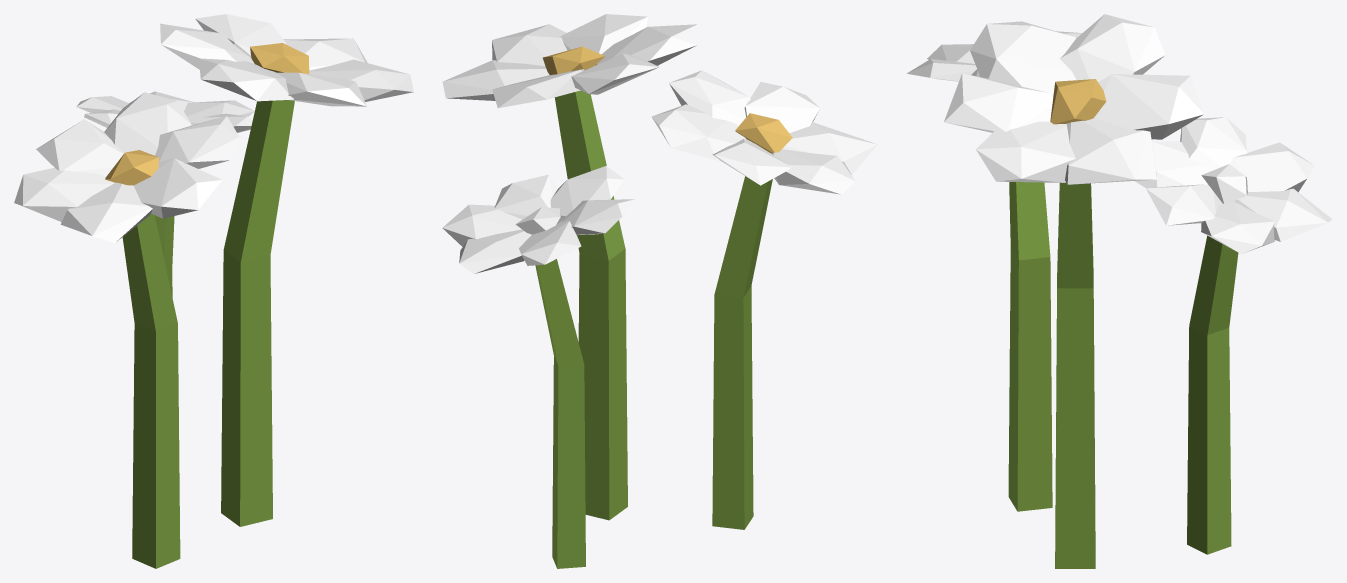
File: Flower_06.fbx
3 renders of one model, left to right at view 1: azimuth 30°, elevation 25°; view 2: azimuth 150°, elevation 25°; view 3: azimuth 270°, elevation 25°, orthographic. The views are drawn at different scales.
Parts seen in each view (by area): view 1: Flower_06; view 2: Flower_06; view 3: Flower_06.
Part boxes in pixels (x1,y1,x2,y2): Flower_06: (14, 14, 413, 568); Flower_06: (442, 14, 877, 568); Flower_06: (907, 14, 1332, 568).
Size of the model in its own units: 21.08 by 25.61 by 19.31.
